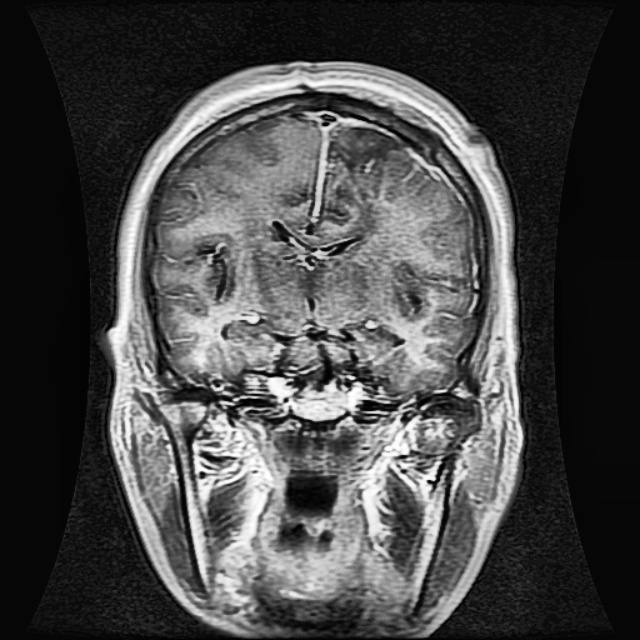Meningioma: (323, 119, 408, 175)
